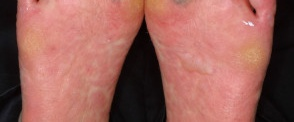SJS-TEN: (14, 0, 278, 122)
